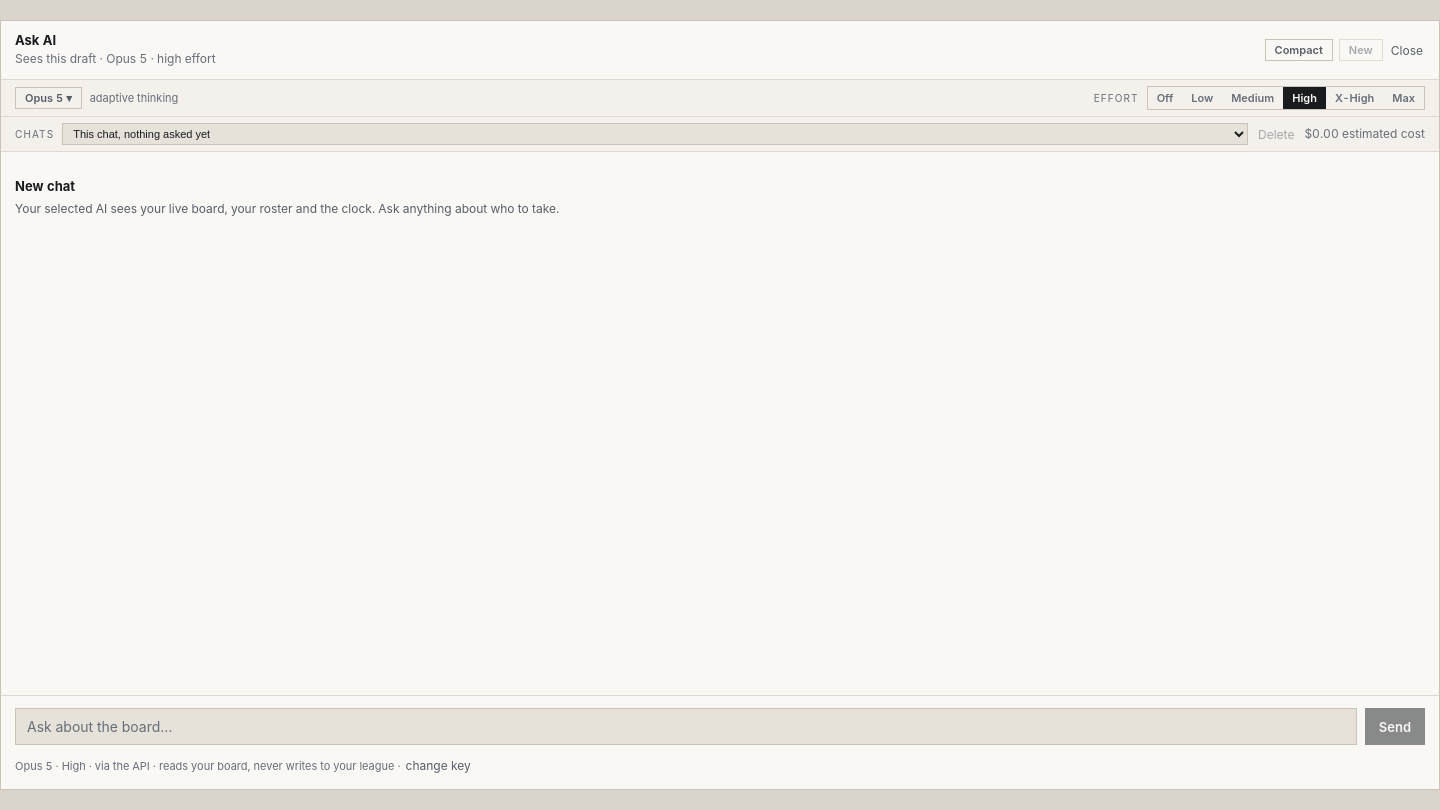
Test case: an answer in flight › offers Cancel while thinking and keeps the partial answer, marked cut short
Type "Who?" into the field named "Ask AI".
click(686, 726); type("Who?")  # box x1=15 y1=708 x2=1357 y2=745
Then press Enter
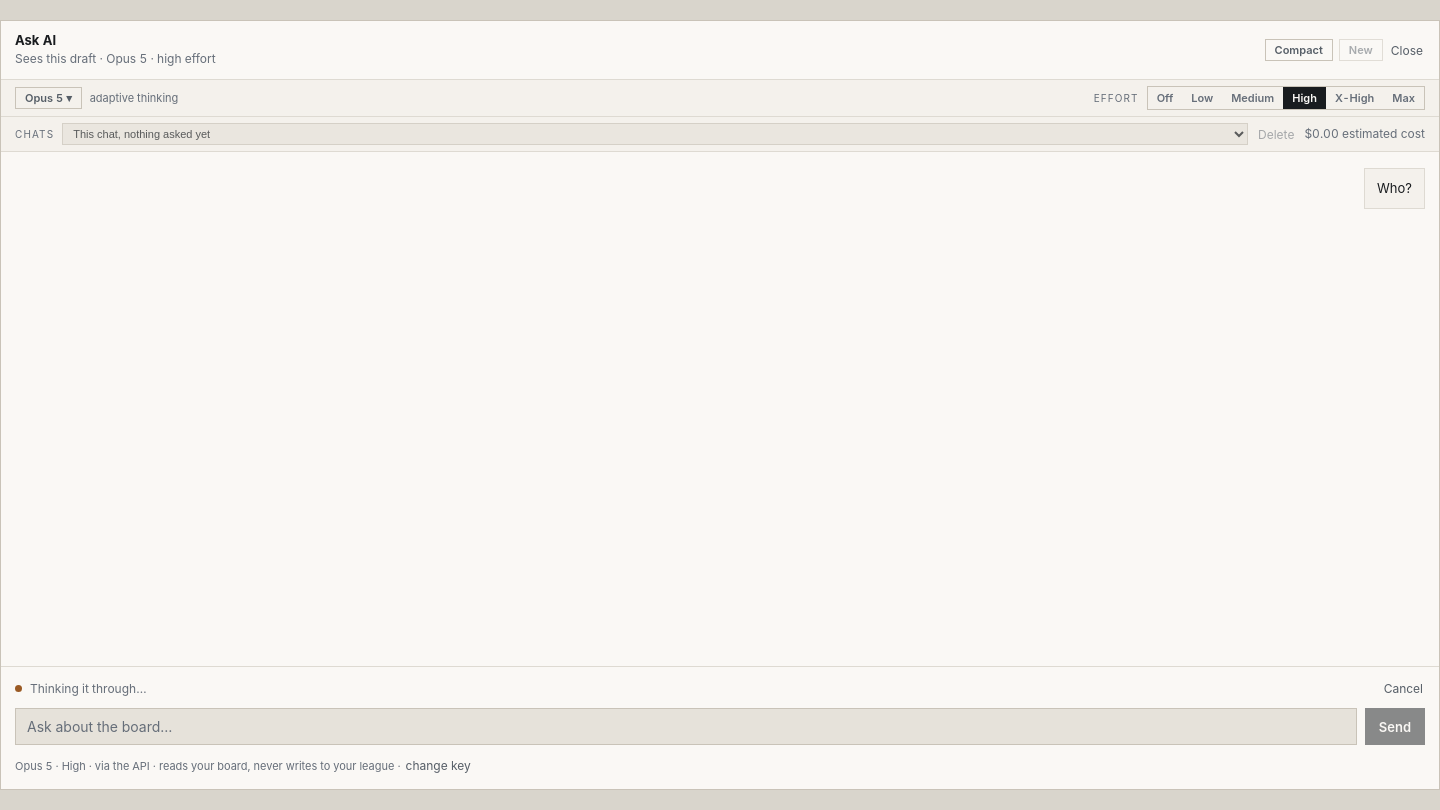
Click the button with aria-label "Cancel the answer".
click(1403, 688)  # box x1=1382 y1=679 x2=1425 y2=698
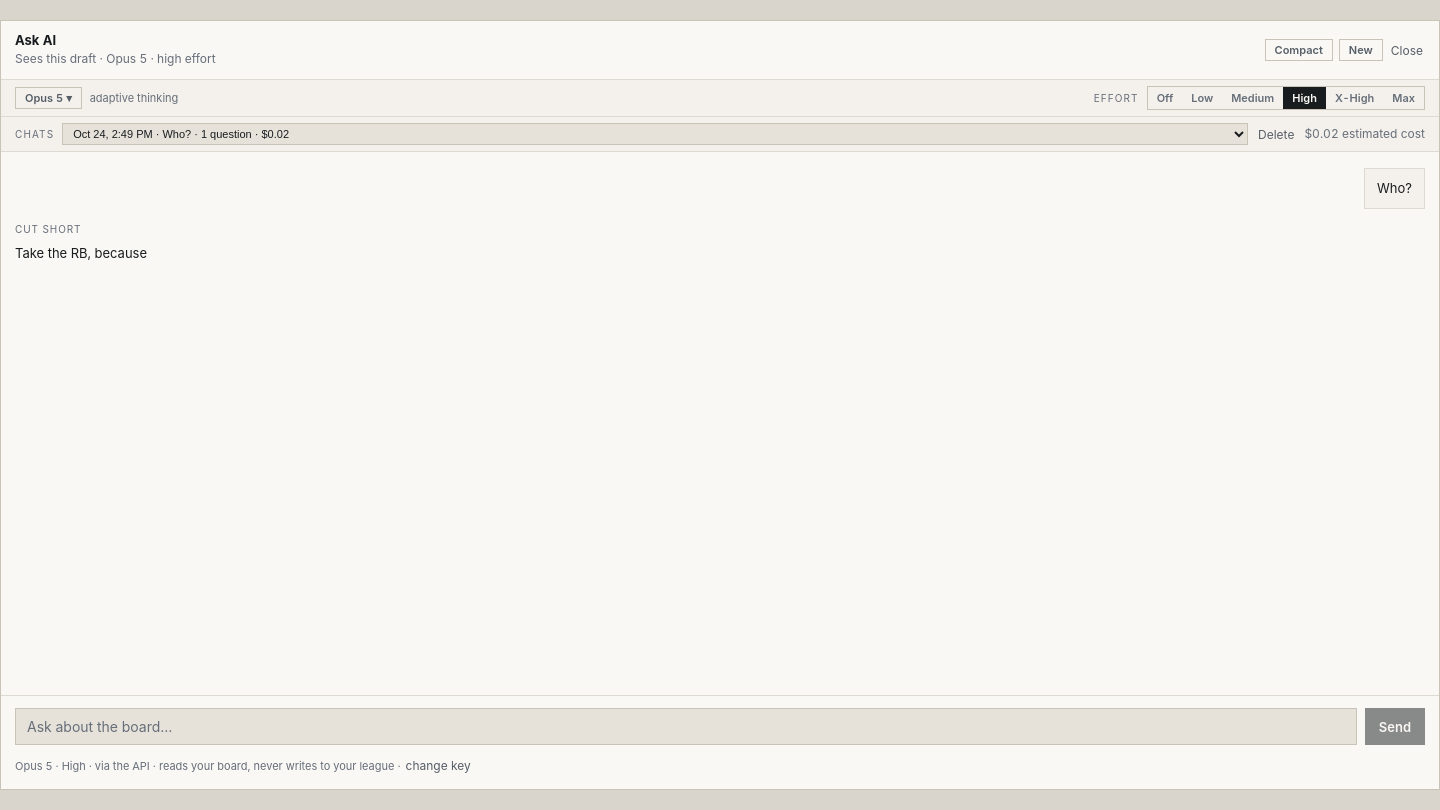
Now the text "Cut short" is shown, box x1=15 y1=223 x2=81 y2=235
Now the text "Take the RB, because" is shown, box x1=15 y1=245 x2=147 y2=261
Now the text "$0.02 estimated cost" is shown, box x1=1304 y1=125 x2=1425 y2=143
Type "Go on" into the field named "Ask AI".
click(686, 726); type("Go on")  # box x1=15 y1=708 x2=1357 y2=745
Then press Enter
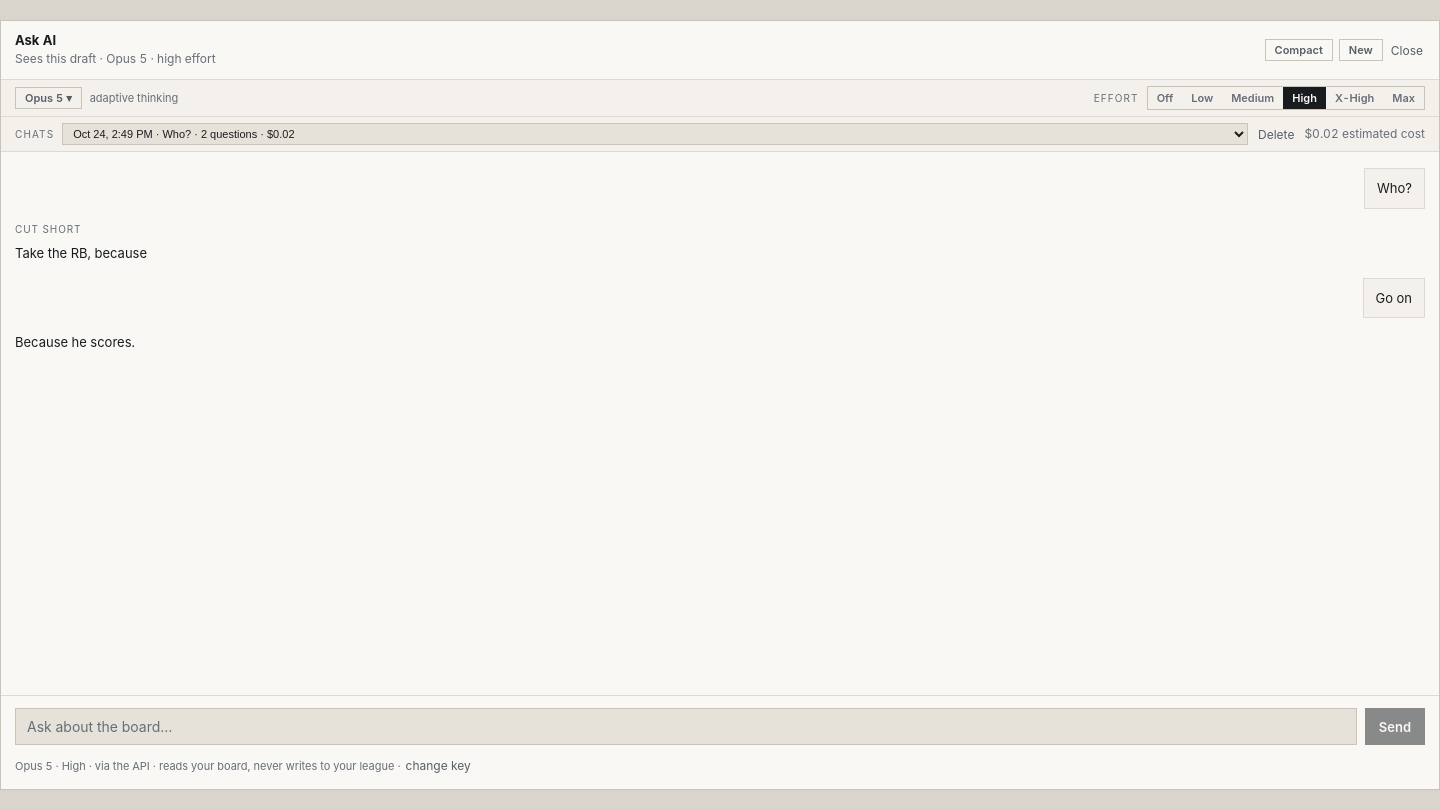
Now the text "Because he scores." is shown, box x1=15 y1=334 x2=135 y2=350
